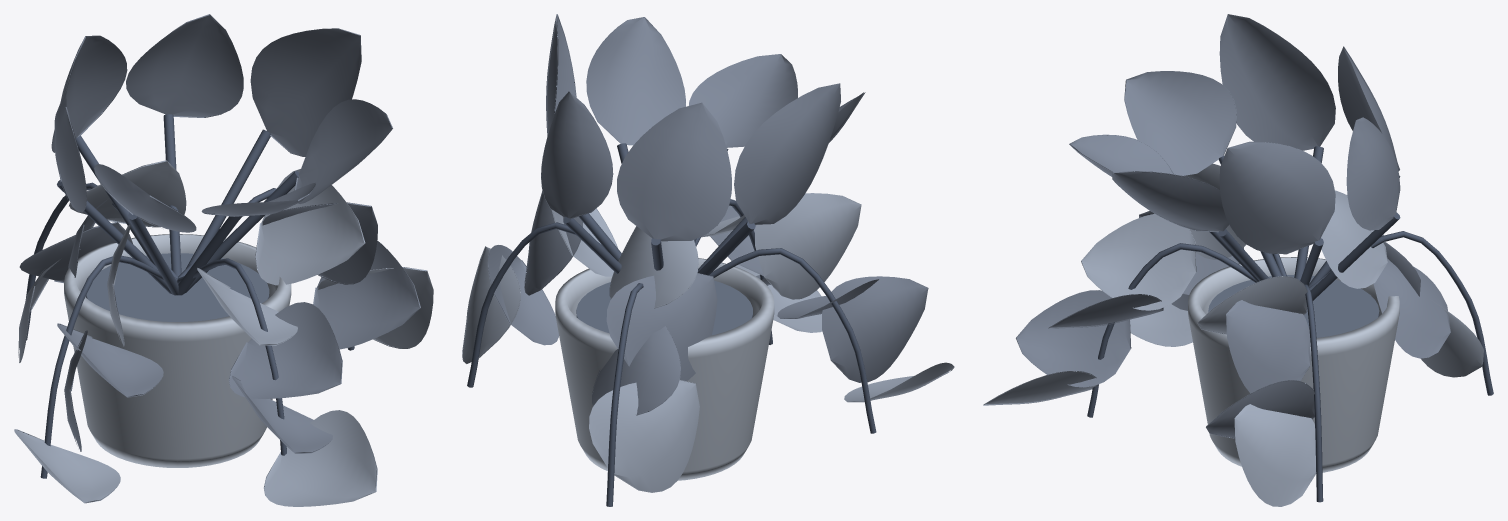
File: 绿萝-lite.glb
3 views of the same model, side by side, from view 1: azimuth 30°, elevation 25°; view 2: azimuth 150°, elevation 25°; view 3: azimuth 270°, elevation 25° (orthographic). The views are drawn at different scales.
Visible parts, largest first — view 1: soft, light, body, dark, glass; view 2: soft, light, body, dark, glass; view 3: soft, light, body, dark, glass.
Part boxes in pixels (box(x1,y1,x2,y2)): soft: box(19, 14, 420, 453); light: box(14, 160, 433, 506); body: box(64, 234, 291, 467); dark: box(25, 114, 354, 478); glass: box(86, 253, 269, 321); soft: box(487, 14, 928, 415); light: box(462, 193, 954, 492); body: box(555, 258, 774, 480); dark: box(467, 143, 876, 506); glass: box(576, 280, 752, 335); soft: box(1016, 14, 1450, 438); light: box(983, 163, 1483, 506); body: box(1188, 257, 1399, 472); dark: box(1087, 146, 1493, 502); glass: box(1208, 275, 1379, 337).
Size of the model in its own units: 0.6531 by 0.55 by 0.6952.
